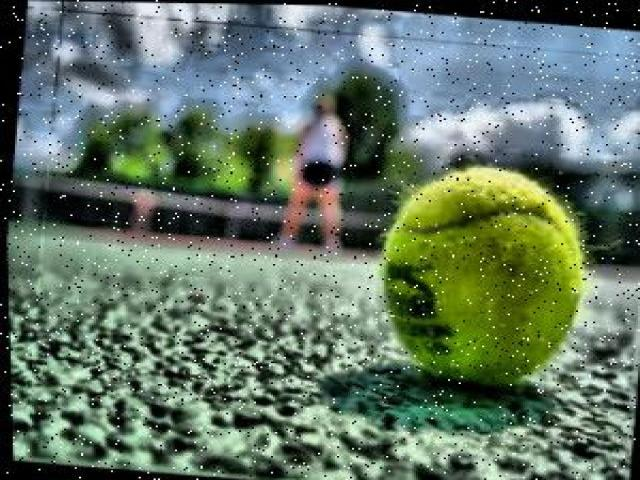tennis-ball: (380, 168, 584, 387)
